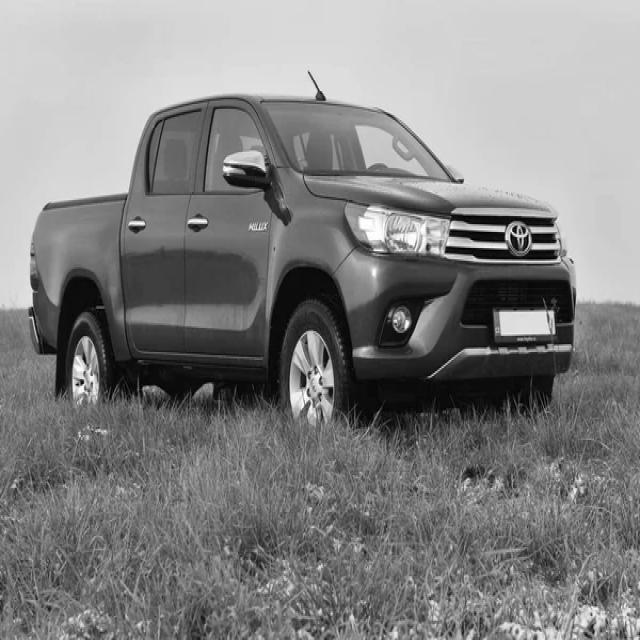Car: (29, 91, 576, 423)
